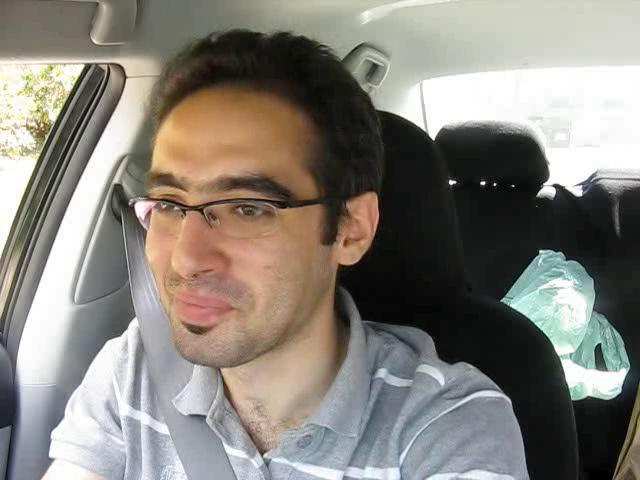no_yawn: (157, 281, 254, 328)
open_eyeL: (144, 187, 191, 227)
open_eyeR: (211, 191, 288, 236)
